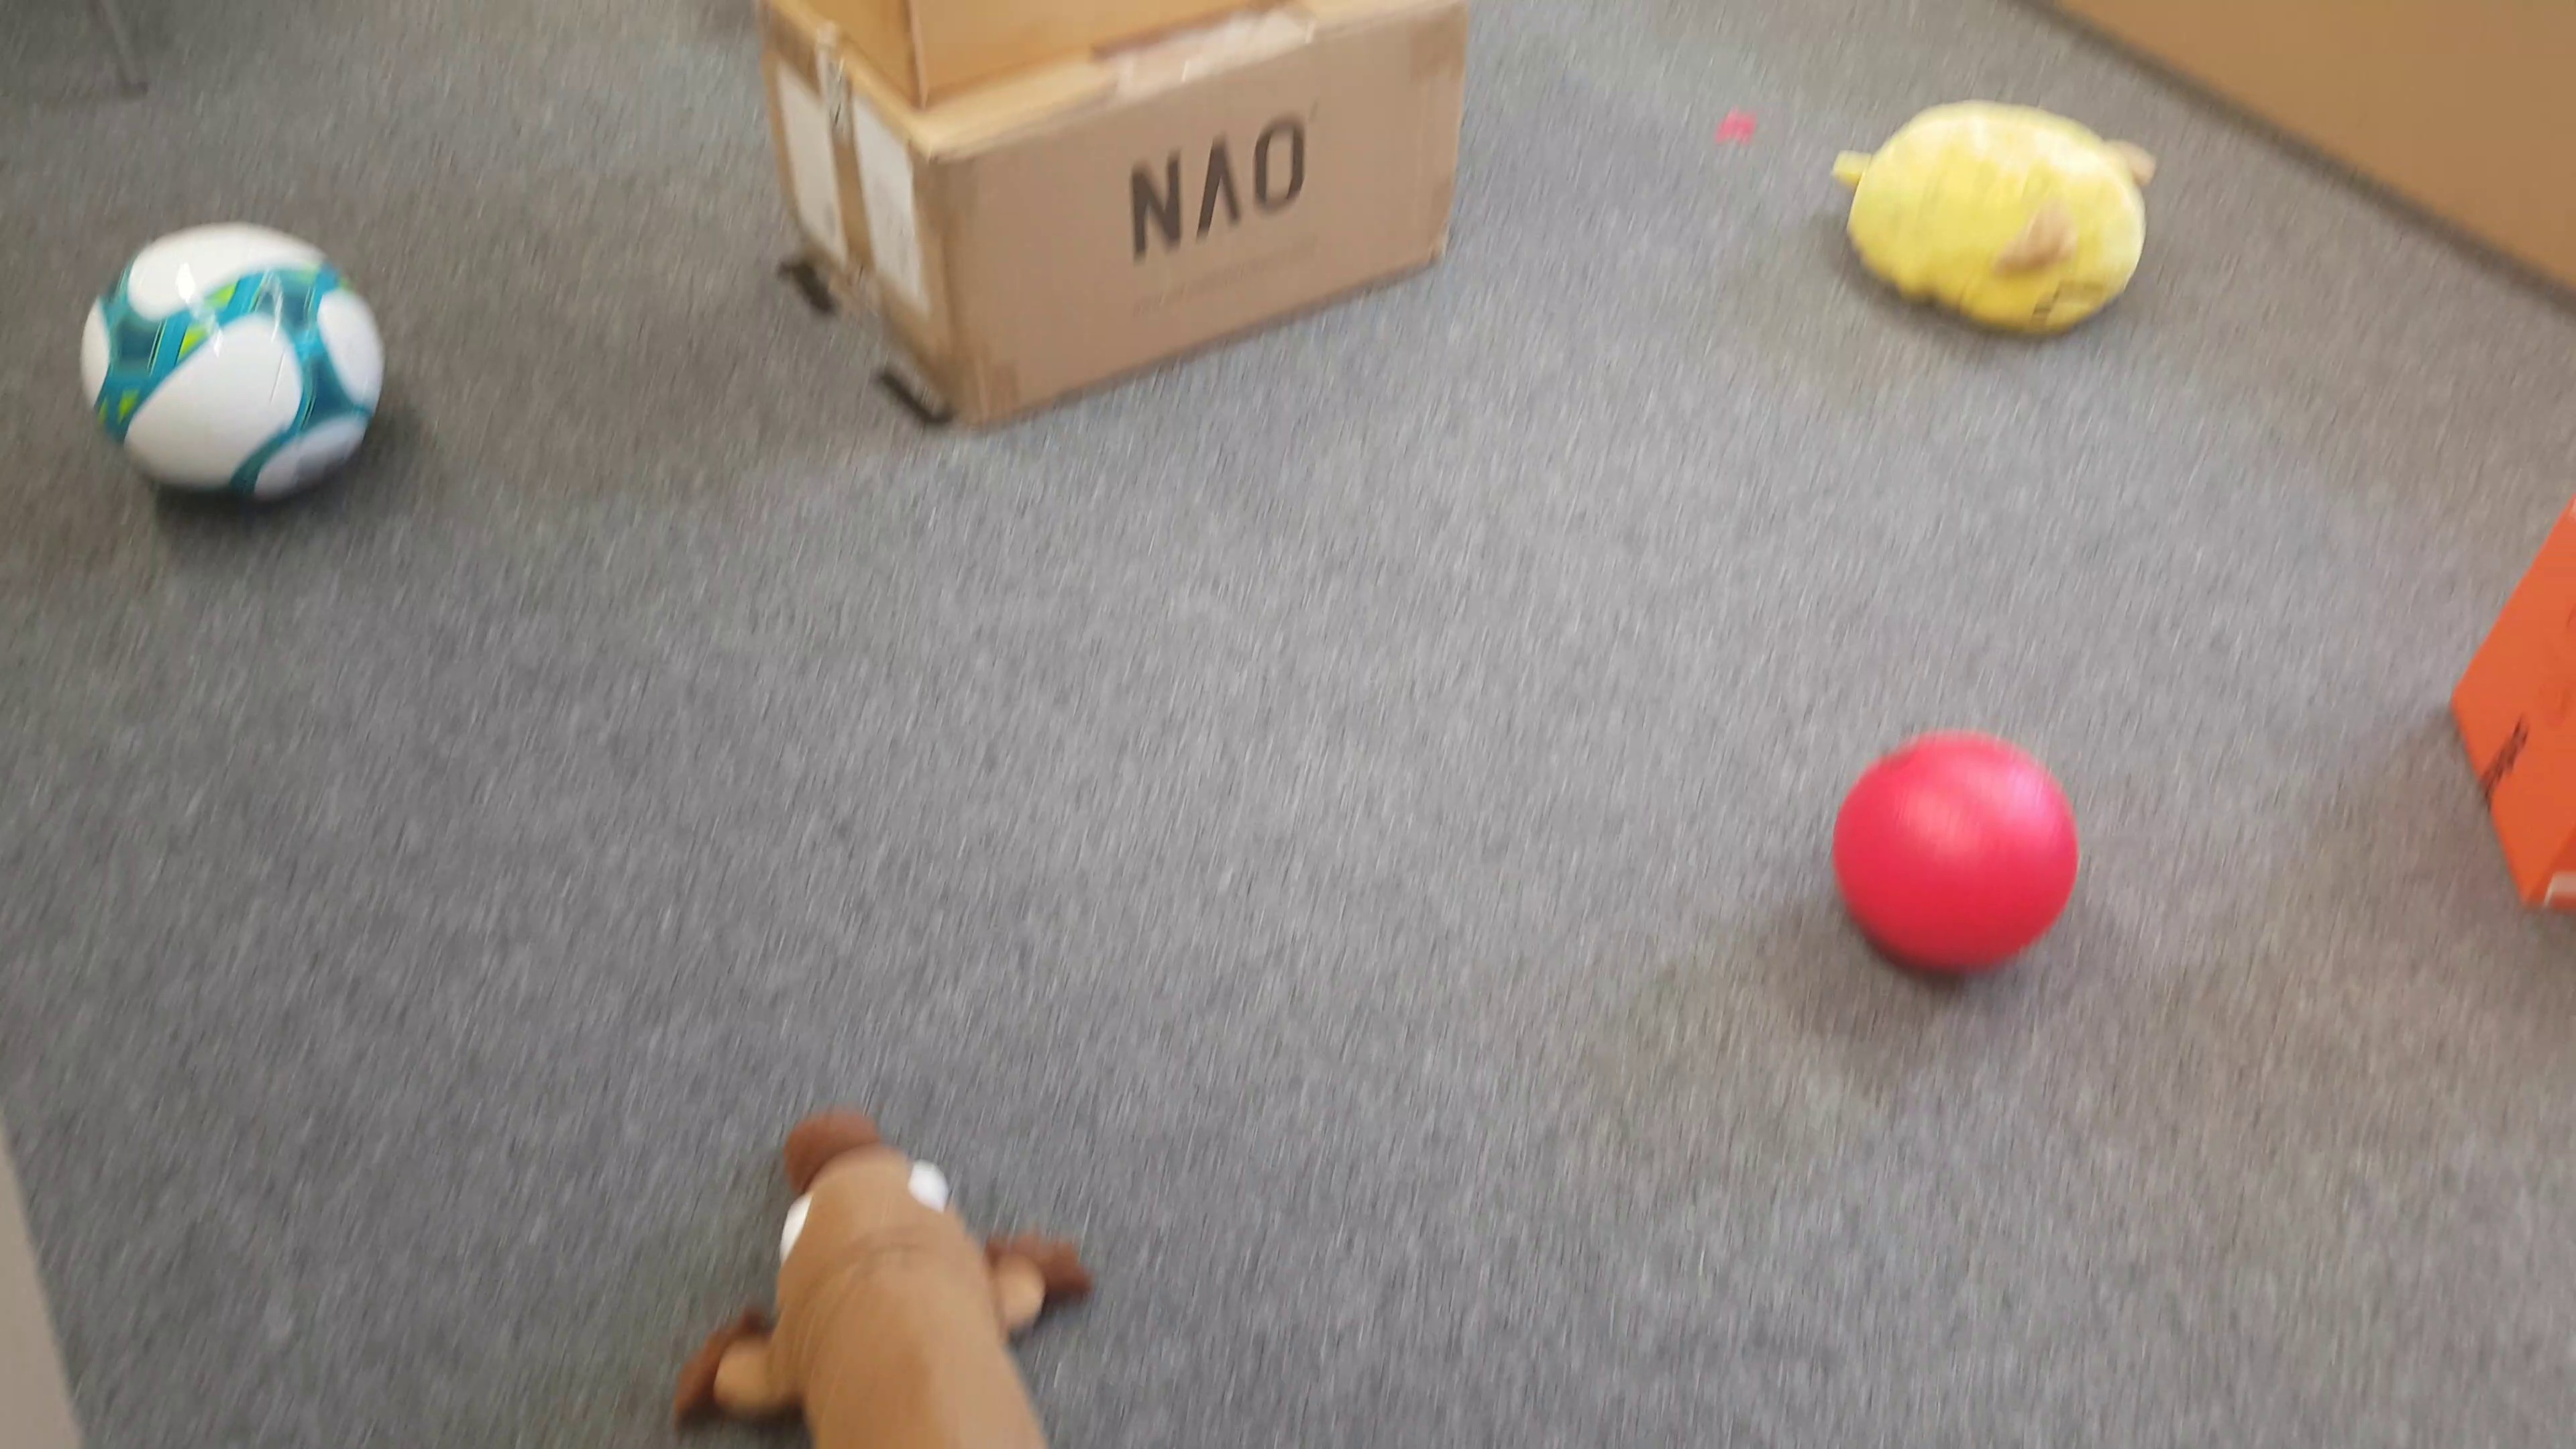grasp: (674, 1109, 1099, 1449), (1835, 99, 2155, 338)
kick: (80, 219, 384, 502), (1838, 734, 2079, 975)
push: (2452, 478, 2576, 911)
